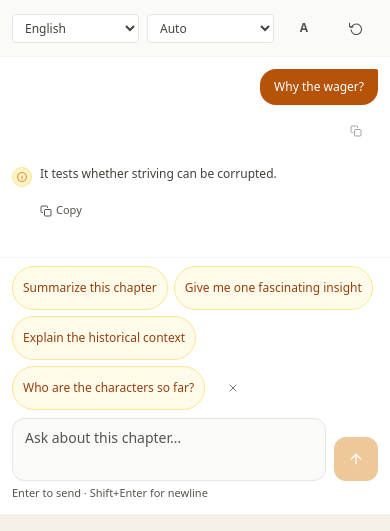
Test: an assistant answer has a Copy button that copies its text
Click the button with aria-label "Copy answer".
click(61, 210)  # box [40,188,82,232]
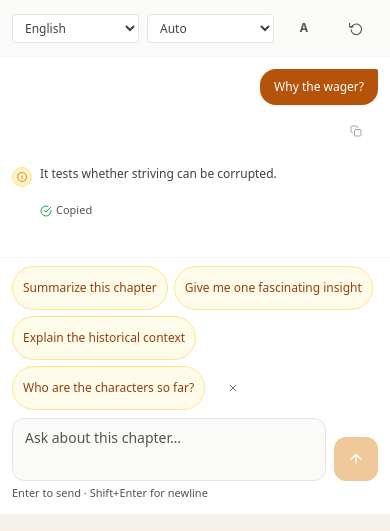
Result: the button "Copied" is shown at [40,188,92,232]
